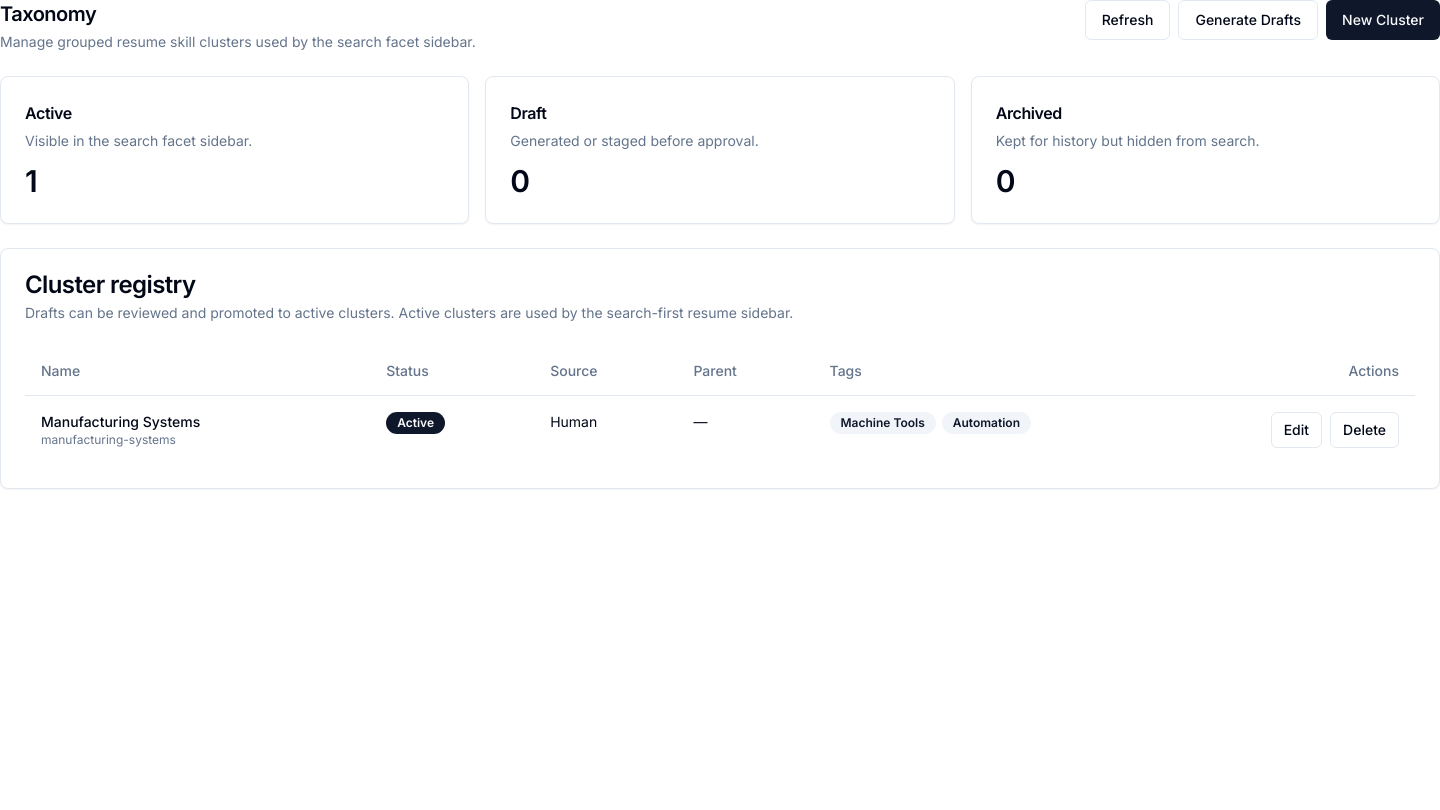
Test: SystemSettingsTaxonomyPage › deletes a taxonomy cluster with an encoded route id
The width and height of the screenshot is (1440, 810).
Expected: the text "Manufacturing Systems" is shown, [41,412,200,430]
Step 1. Click the button "Delete" → (1365, 430), box [1330,412,1399,448]
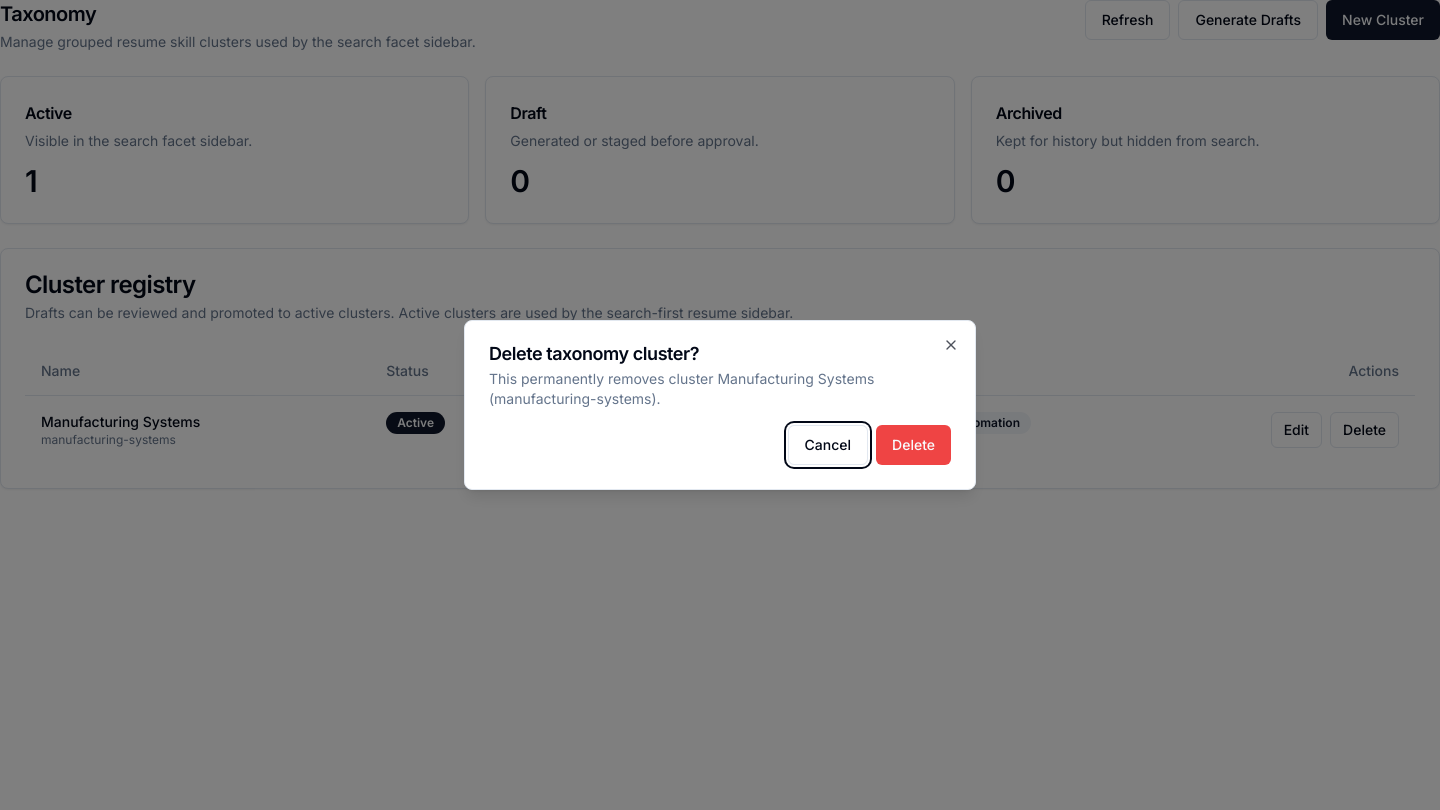
Expected: the heading "Delete taxonomy cluster?" is shown, [489,343,699,364]
Step 2. Click the button with test id "taxonomy-delete-confirm" → (914, 445), box [876,425,951,465]
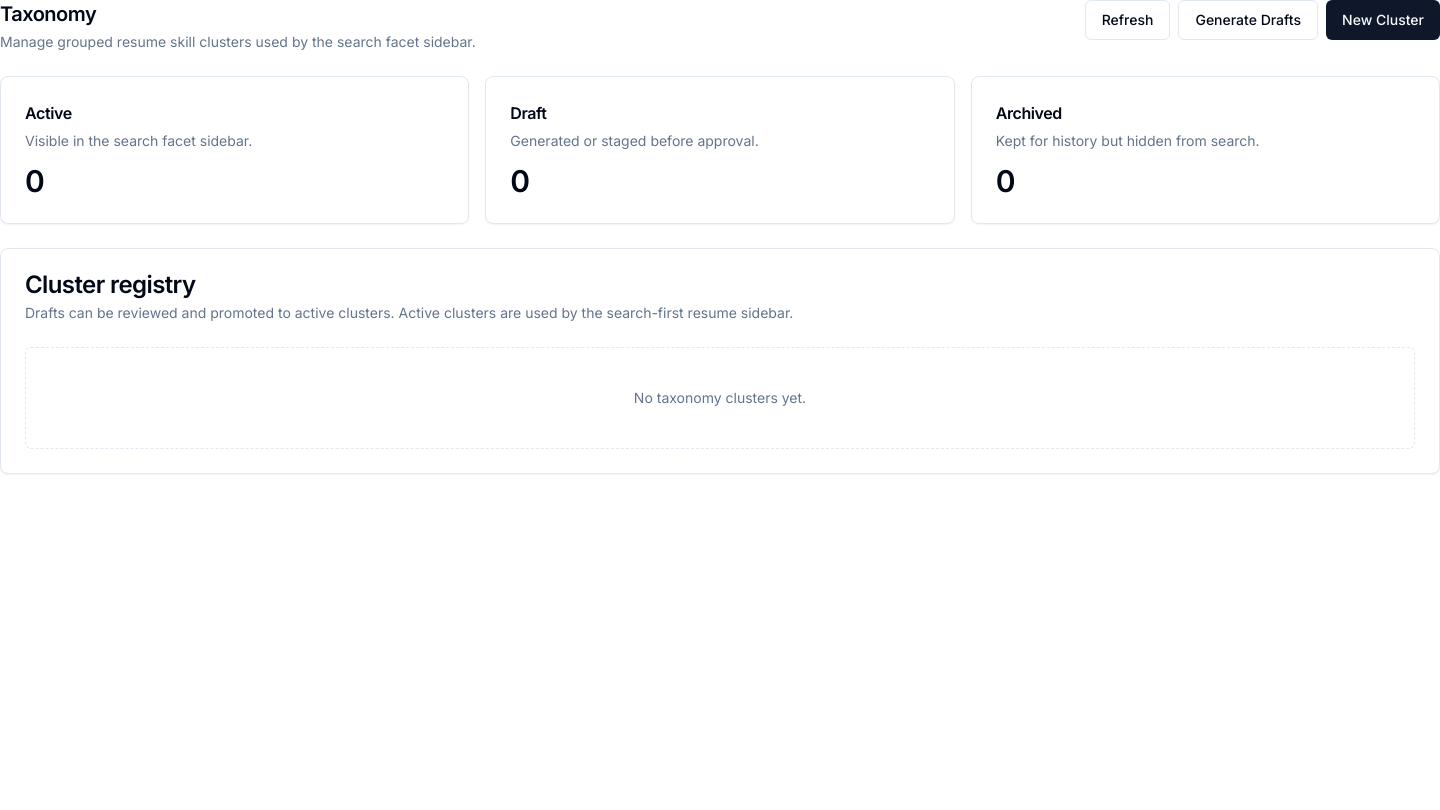
Expected: the text "Manufacturing Systems" is gone
